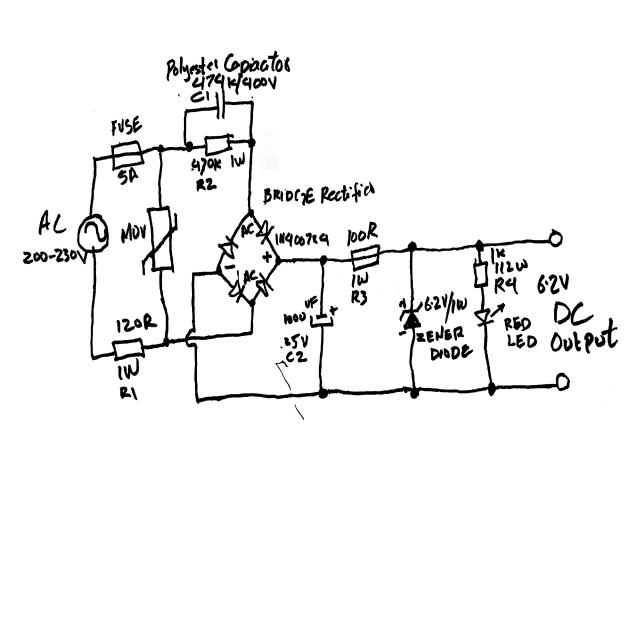capacitor: (309, 303, 340, 329), (215, 89, 226, 120)
crossover: (185, 326, 199, 350)
diode: (473, 302, 506, 329), (399, 300, 424, 331), (255, 218, 275, 247), (217, 234, 239, 260), (227, 275, 246, 304), (255, 271, 274, 300)
junction: (474, 238, 485, 254), (409, 386, 420, 401), (406, 240, 417, 255), (487, 380, 496, 398), (318, 385, 328, 400), (246, 297, 257, 310), (319, 253, 329, 267), (184, 141, 194, 154), (246, 207, 256, 220), (213, 265, 223, 278), (247, 137, 256, 150), (274, 254, 283, 267), (247, 99, 255, 111), (190, 269, 198, 281), (162, 337, 170, 348), (157, 145, 165, 156), (183, 106, 191, 117), (193, 395, 201, 406), (247, 327, 254, 339), (91, 155, 99, 165), (90, 353, 97, 363)
resistor: (111, 337, 146, 363), (204, 132, 234, 158), (473, 257, 489, 289)
source: (76, 214, 110, 255)
terminal: (546, 228, 564, 251), (553, 371, 571, 394)
text: (166, 50, 290, 105), (264, 181, 376, 206), (550, 316, 618, 354), (416, 325, 474, 363), (490, 246, 529, 295), (424, 291, 468, 323), (22, 246, 88, 267), (503, 315, 538, 351), (553, 300, 595, 327), (191, 157, 222, 193), (274, 230, 330, 249), (117, 357, 140, 401), (37, 208, 68, 239), (283, 331, 309, 365), (117, 312, 158, 332), (347, 221, 378, 247), (536, 273, 570, 296), (111, 113, 142, 138), (349, 271, 370, 307), (120, 221, 147, 243), (117, 166, 138, 185), (243, 267, 259, 288), (283, 312, 306, 325), (230, 152, 245, 168), (304, 294, 318, 311), (241, 223, 255, 238)
